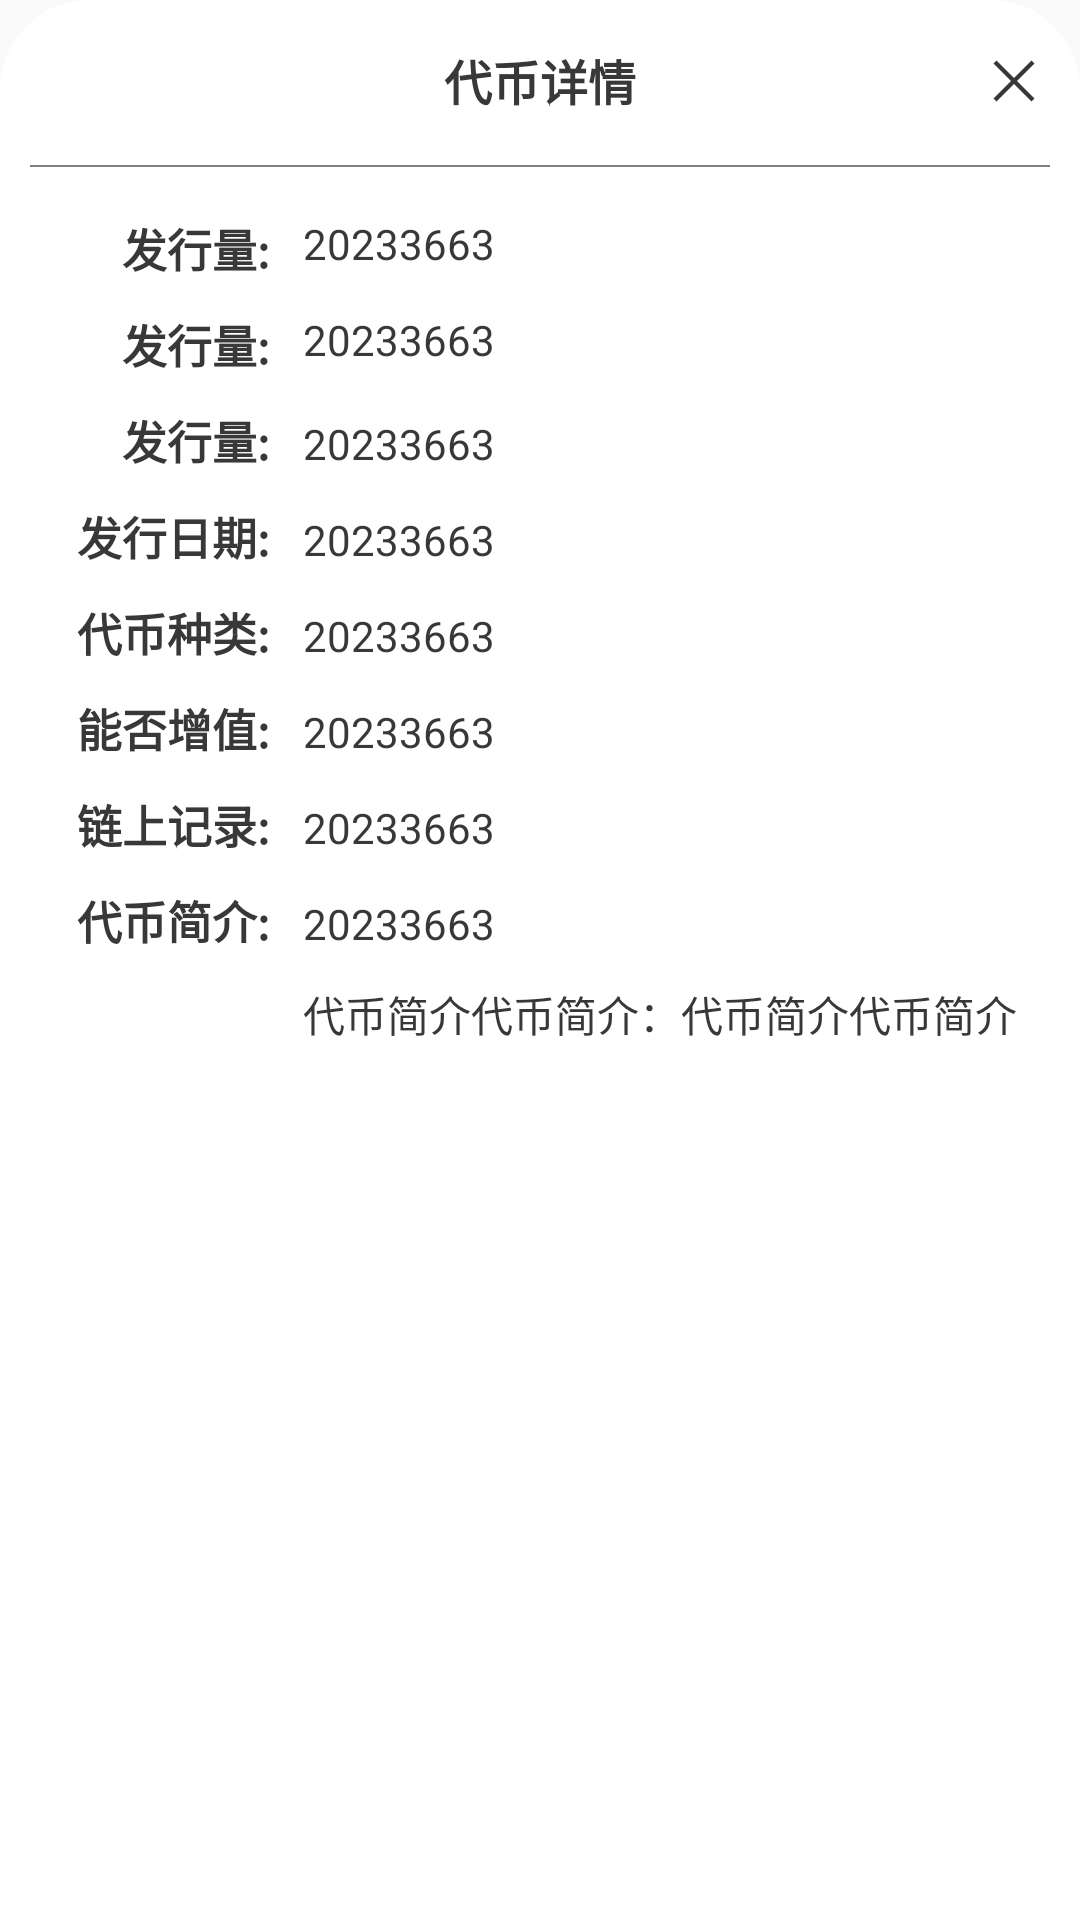

Named icons in this screenshot (1080px×1920px) and their centers, (x=x, y=y):
close: (x=1014, y=81)
